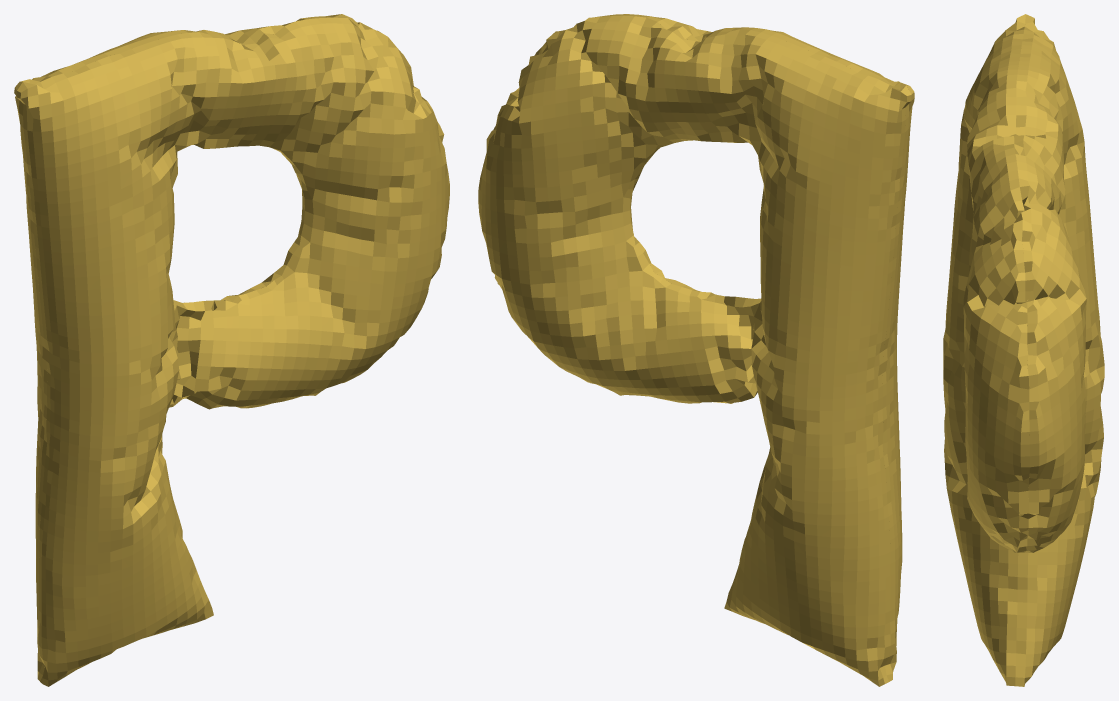
Rendered from letter_p.gltf.
3 views of the same model, side by side, from view 1: azimuth 30°, elevation 25°; view 2: azimuth 150°, elevation 25°; view 3: azimuth 270°, elevation 25° (orthographic). The views are drawn at different scales.
Parts seen in each view (by area): view 1: Object_16; view 2: Object_16; view 3: Object_16.
Boxes of the visible parts, left/top/right/bottom form: Object_16: left=14, top=14, right=449, bottom=686; Object_16: left=478, top=14, right=914, bottom=686; Object_16: left=943, top=14, right=1104, bottom=686.
Bounding box in the file's own units: 0.4879 × 0.6723 × 0.1558.
